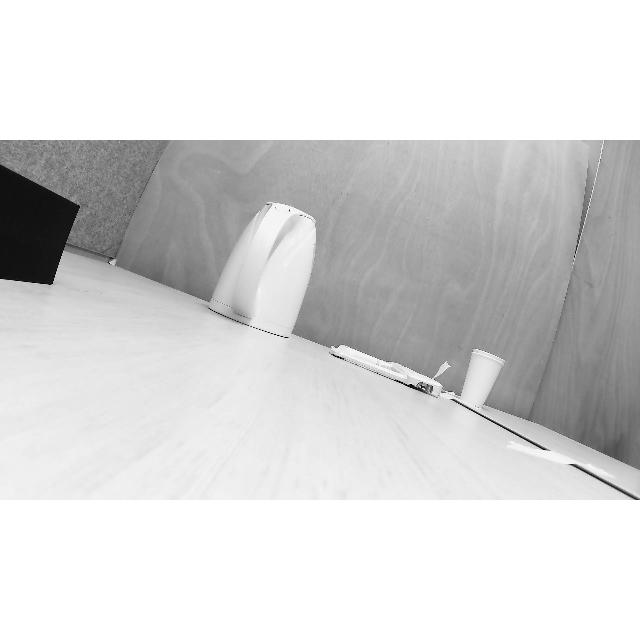targets: (206, 203, 316, 339), (328, 344, 447, 398), (455, 346, 507, 408)
